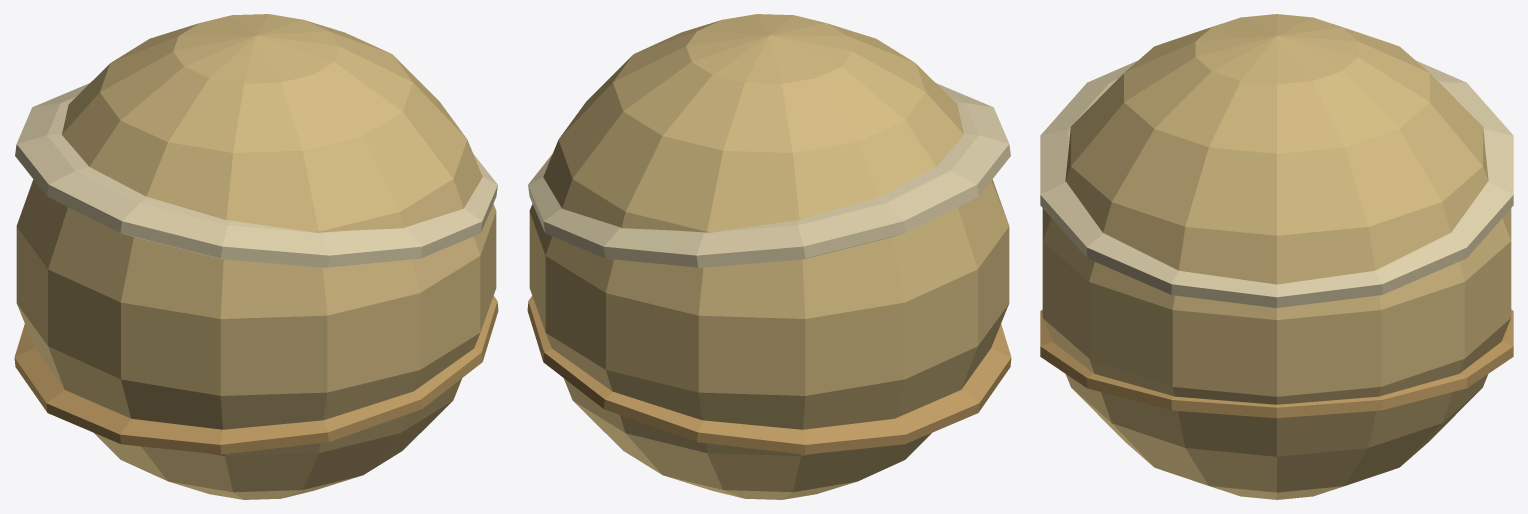
File: venus.glb
3 views of the same model, side by side, from view 1: azimuth 30°, elevation 25°; view 2: azimuth 150°, elevation 25°; view 3: azimuth 270°, elevation 25° (orthographic).
Parts seen in each view (by area): view 1: venus; view 2: venus; view 3: venus.
Part boxes in pixels (<box>): venus: <box>14,14,498,499</box>; venus: <box>527,14,1011,499</box>; venus: <box>1040,14,1513,499</box>.
Bounding box in the file's own units: 0.4565 × 0.46 × 0.4465.
